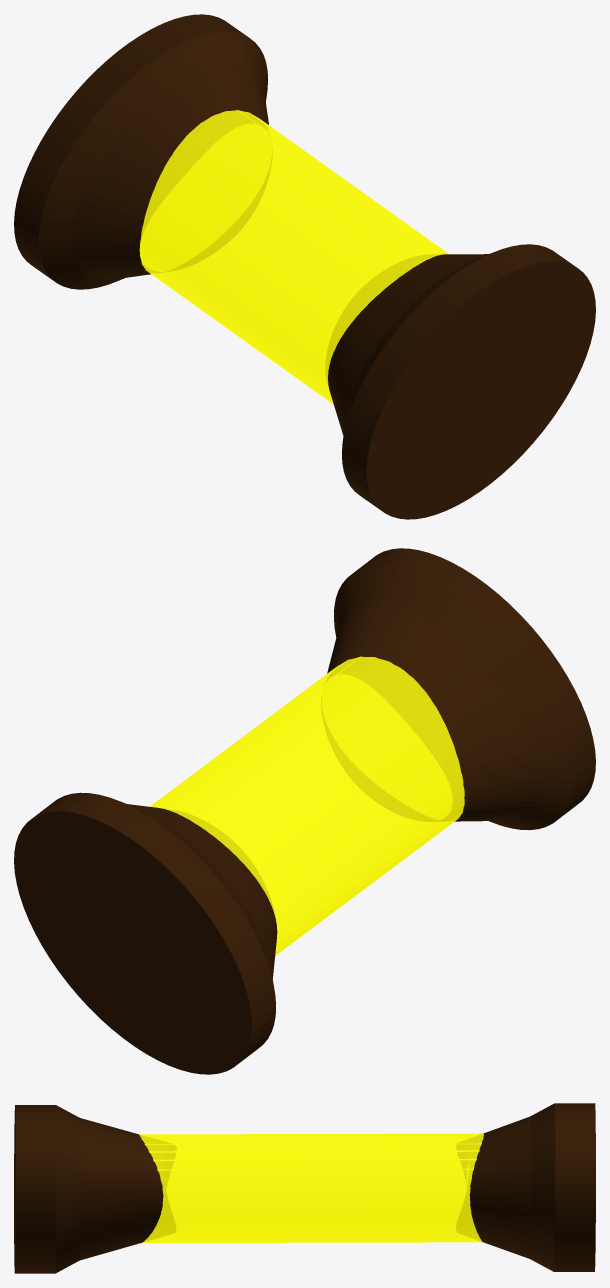
File: TunnelLightBar.fbx
3 views of the same model, one above another, from view 1: azimuth 30°, elevation 25°; view 2: azimuth 150°, elevation 25°; view 3: azimuth 270°, elevation 25° (orthographic). The views are drawn at different scales.
Visible parts, largest first — view 1: Barside, Bar; view 2: Barside, Bar; view 3: Barside, Bar.
Part boxes in pixels (box(x1,y1,x2,y2)): Barside: box(14, 14, 595, 519); Bar: box(139, 110, 448, 404); Barside: box(14, 548, 595, 1074); Bar: box(150, 656, 464, 955); Barside: box(14, 1103, 595, 1273); Bar: box(139, 1133, 483, 1243).
Size of the model in its own units: 0.4313 by 0.393 by 1.08.
